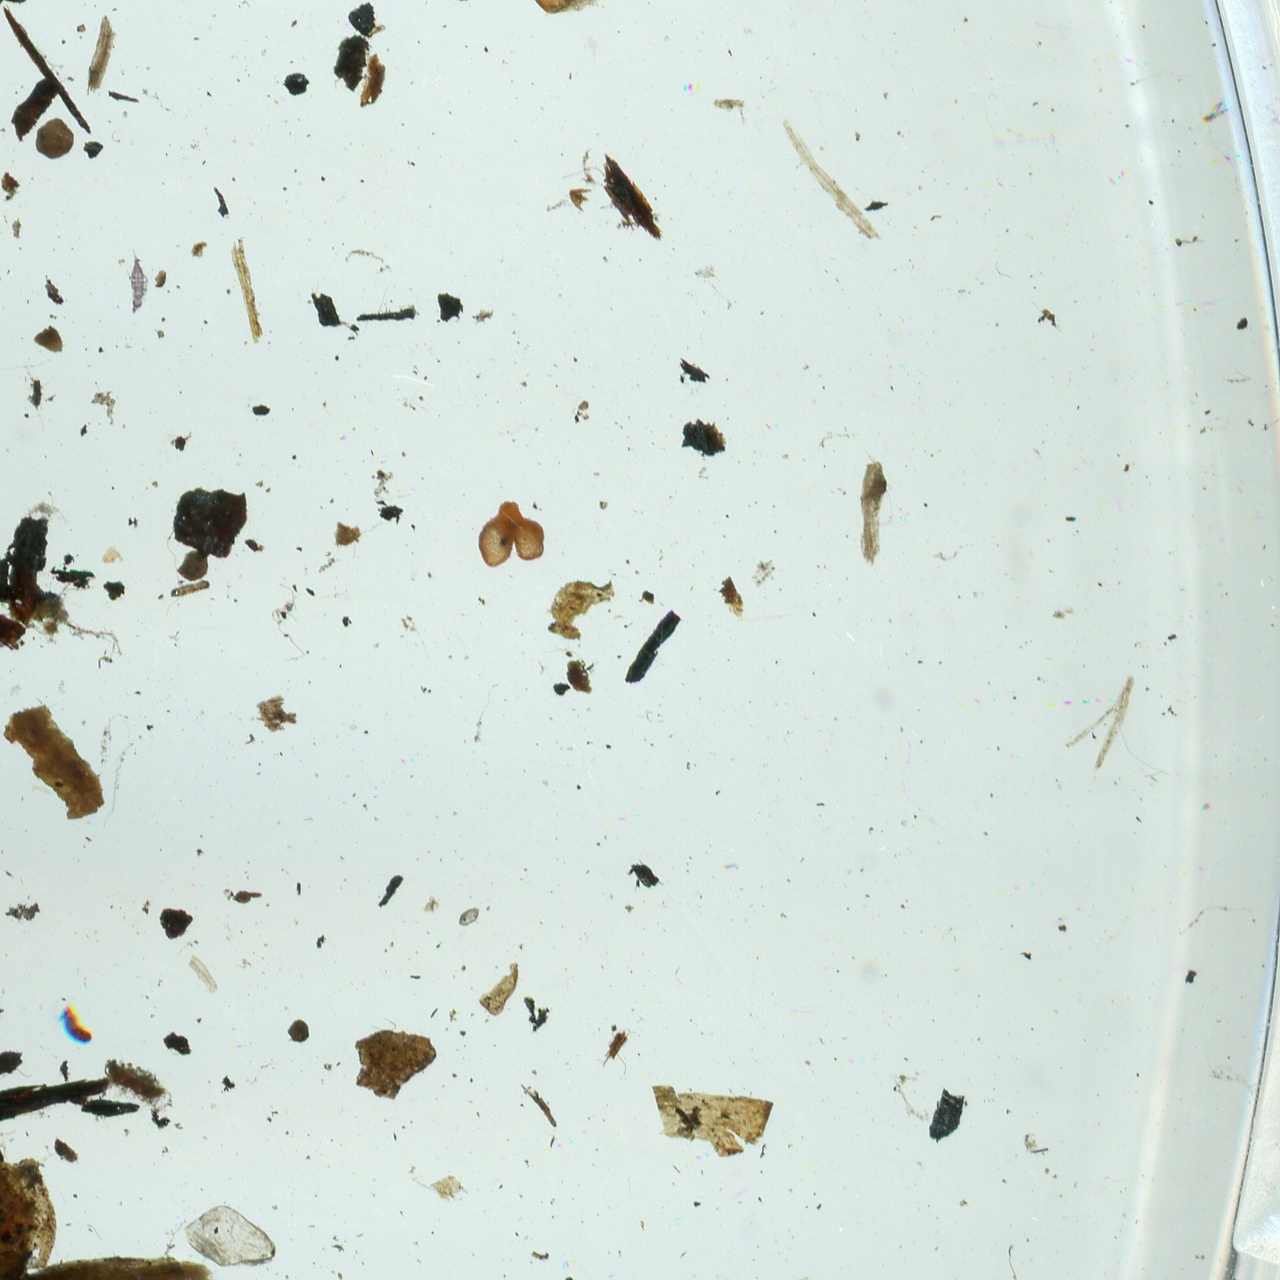arthropod: (129, 248, 149, 313)
